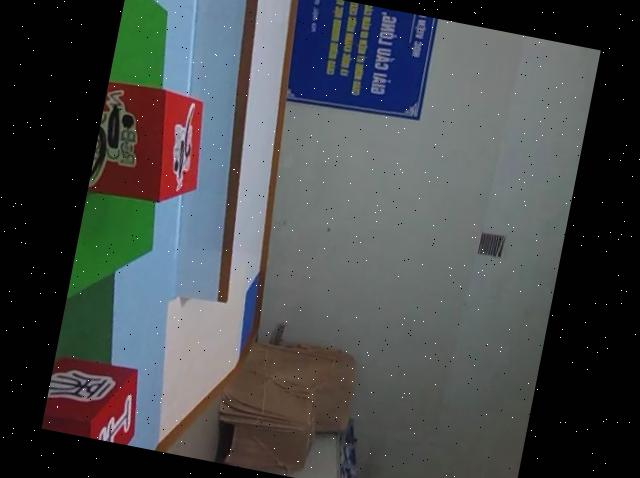R1: (86, 79, 212, 211)
R2 Fake: (40, 354, 145, 446)
